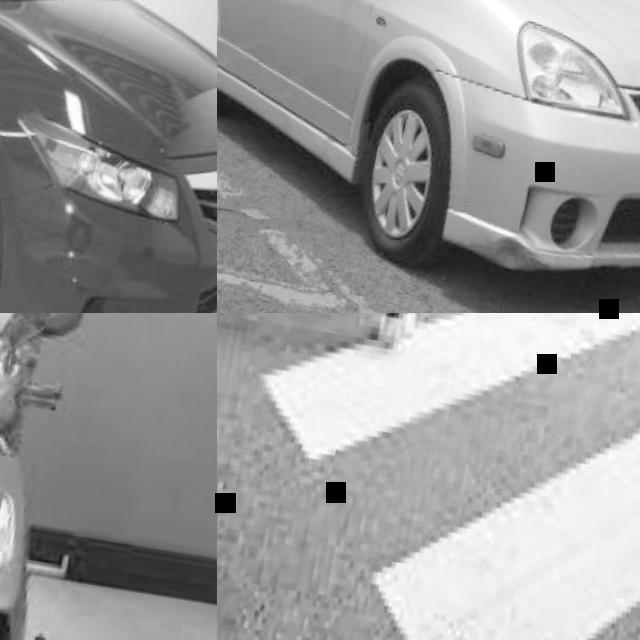car: (235, 0, 638, 271)
